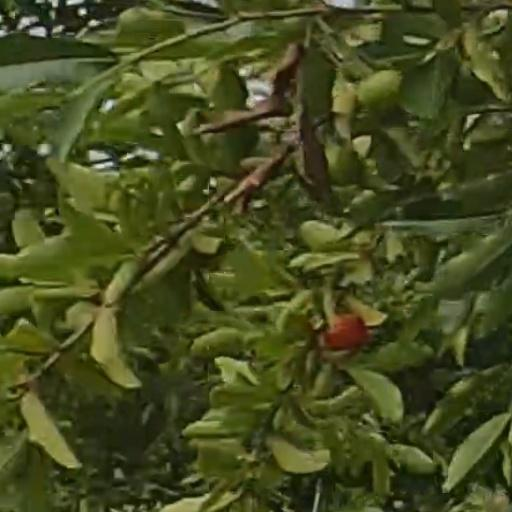acerola: (327, 314, 366, 350)
